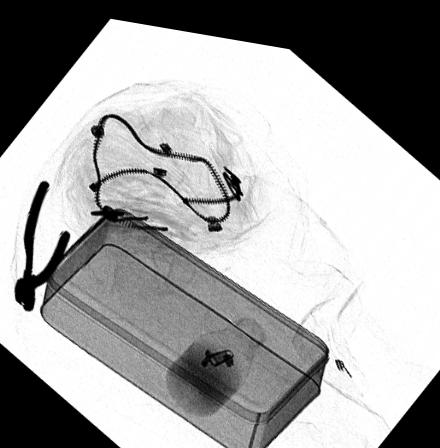Pliers: (13, 177, 72, 310)
